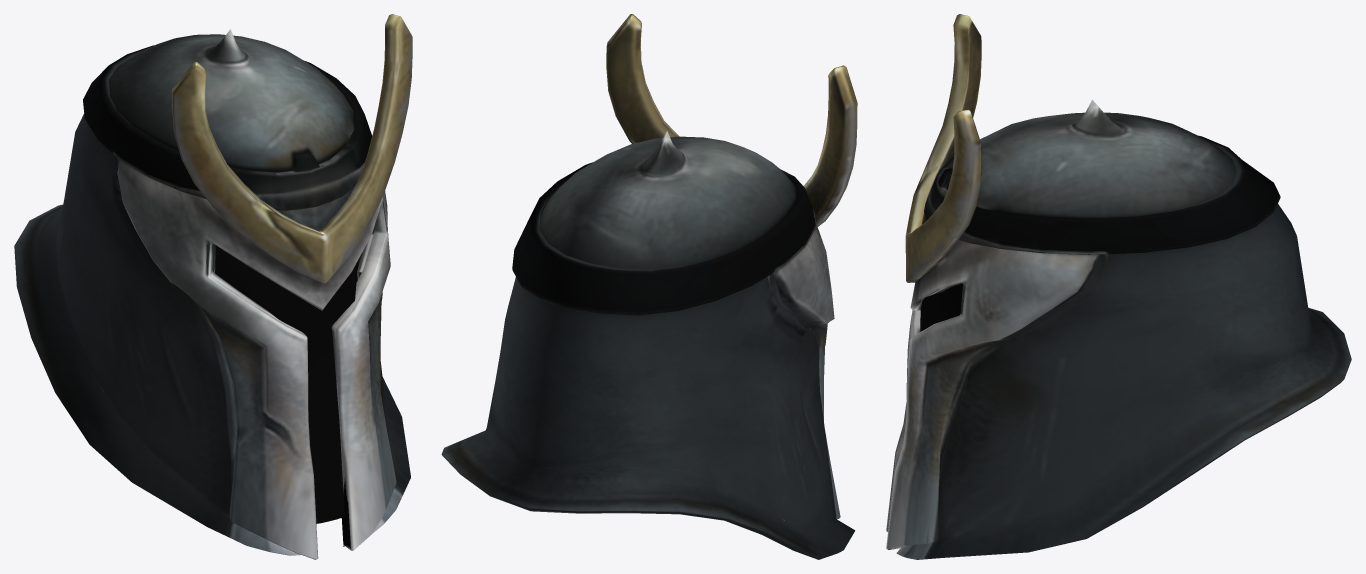
The model's file is sm_yun_void_helmet.gltf.
3 views of the same model, side by side, from view 1: azimuth 30°, elevation 25°; view 2: azimuth 150°, elevation 25°; view 3: azimuth 270°, elevation 25° (orthographic). The views are drawn at different scales.
Visible parts, largest first — view 1: sm_yun_void_helmet; view 2: sm_yun_void_helmet; view 3: sm_yun_void_helmet.
Boxes of the visible parts, x1,y1,x2,y2 form: sm_yun_void_helmet: (14, 14, 412, 559); sm_yun_void_helmet: (441, 14, 857, 559); sm_yun_void_helmet: (886, 14, 1351, 559).
Bounding box in the file's own units: 36.76 × 56.94 × 50.16.
Materials: 1 (1 with a texture image).
